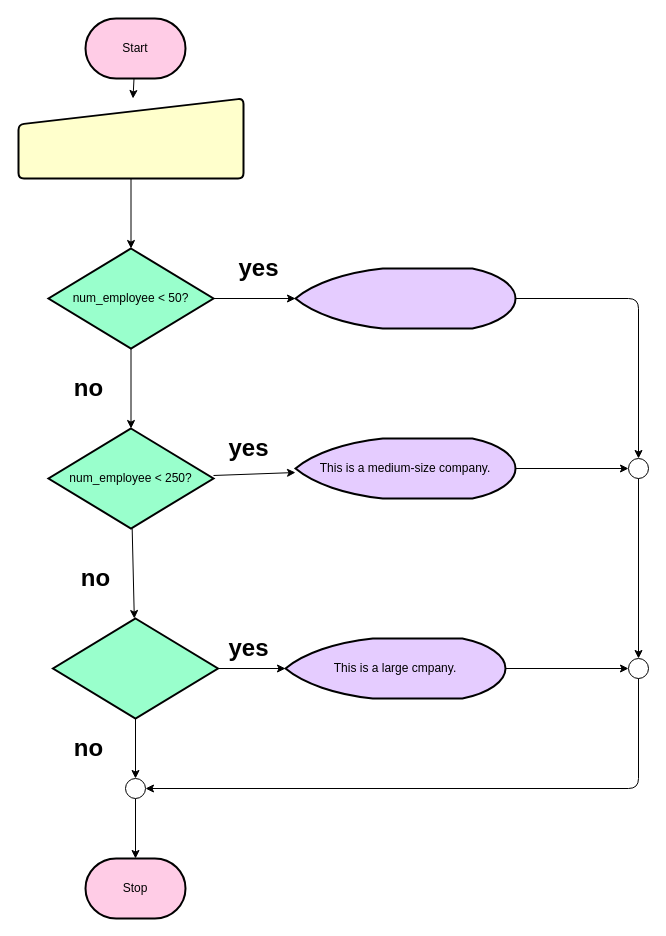
Image size: 666x936. Some labels were removed from this diagram. The shapes that lost their labels are listed below. From the top down, each one's box as (x1, y1, x2, y2) in pixels, then its label:
(17, 97, 244, 179): Enter the number of emploee:num_employee
(294, 267, 516, 329): This is a small company.
(52, 617, 218, 719): num_employee >=250?
